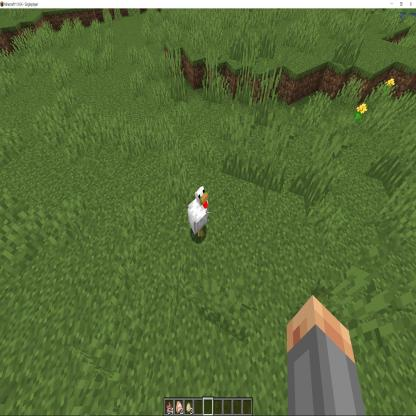minecraft-pigs: (186, 184, 212, 241)
